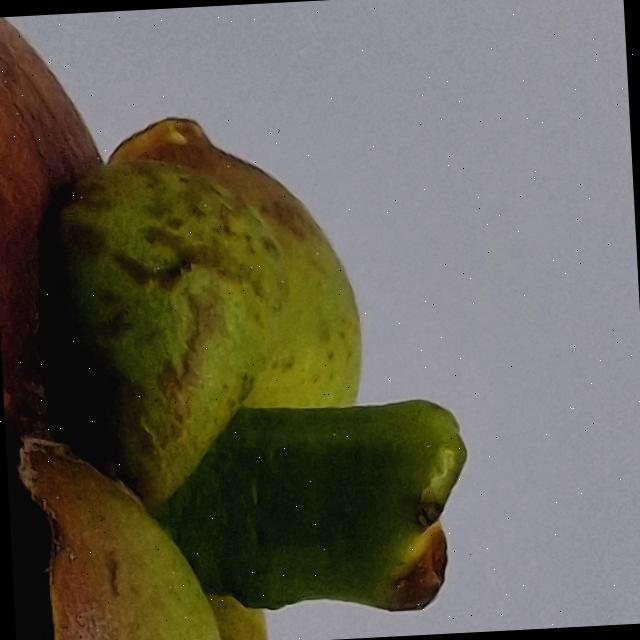mangosteen: (0, 0, 551, 640)
